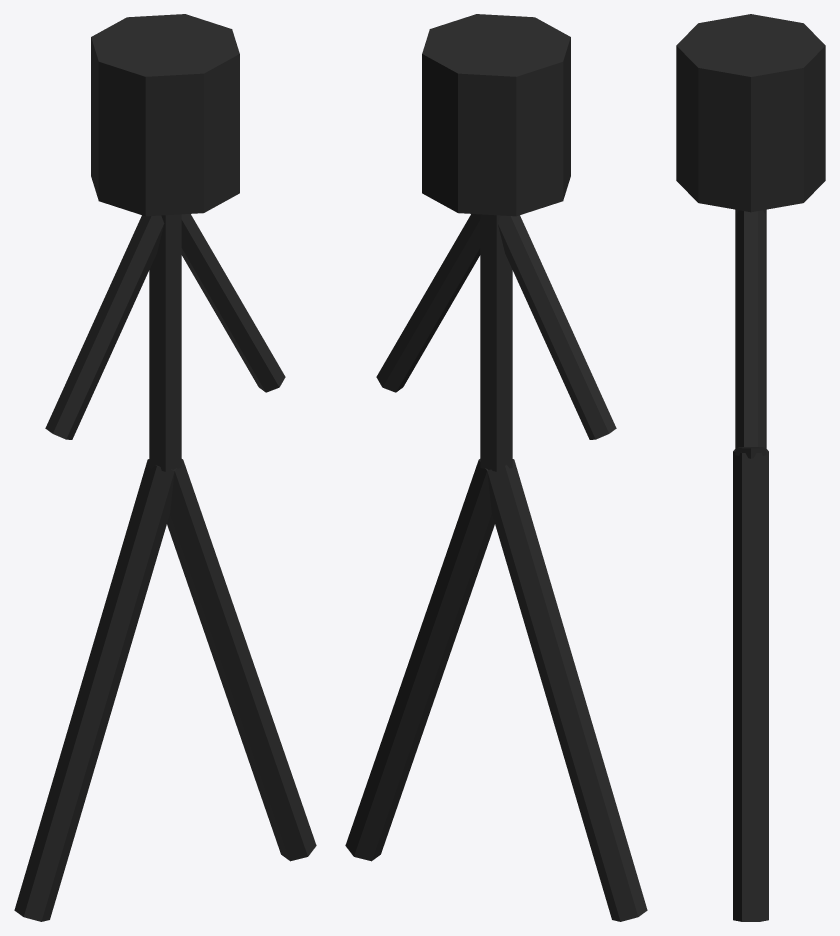
Rendered from pedestrian-stick.glb.
3 renders of one model, left to right at view 1: azimuth 30°, elevation 25°; view 2: azimuth 150°, elevation 25°; view 3: azimuth 270°, elevation 25°, orthographic. The views are drawn at different scales.
Visible parts, largest first — view 1: PedestrianStick; view 2: PedestrianStick; view 3: PedestrianStick.
Boxes of the visible parts, left/top/right/bottom form: PedestrianStick: left=14, top=14, right=316, bottom=921; PedestrianStick: left=345, top=14, right=647, bottom=921; PedestrianStick: left=676, top=14, right=825, bottom=921.
Bounding box in the file's own units: 0.1099 × 0.3016 × 0.05.
Materials: 1 (1 with a texture image).
